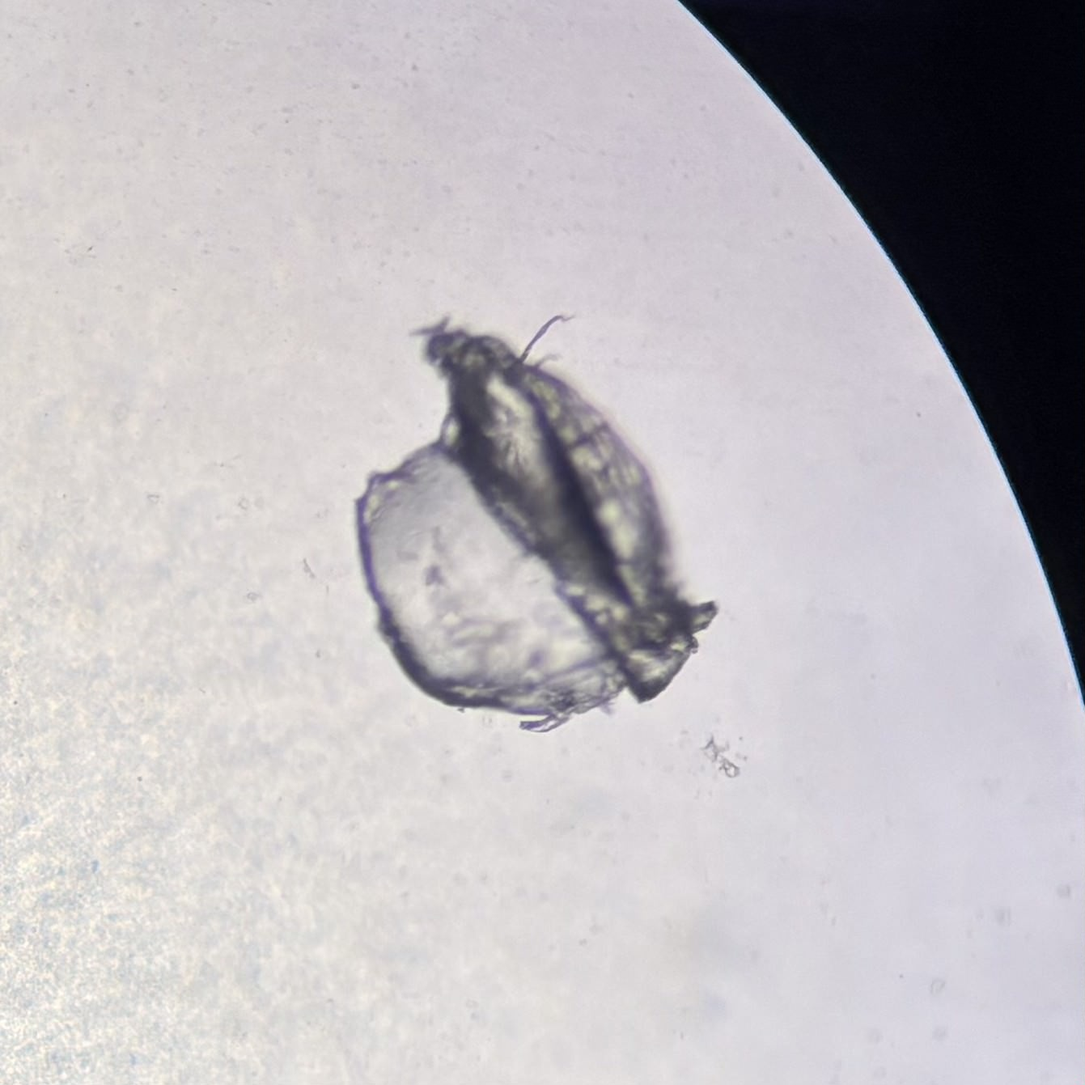microplastic: (350, 305, 720, 735)
